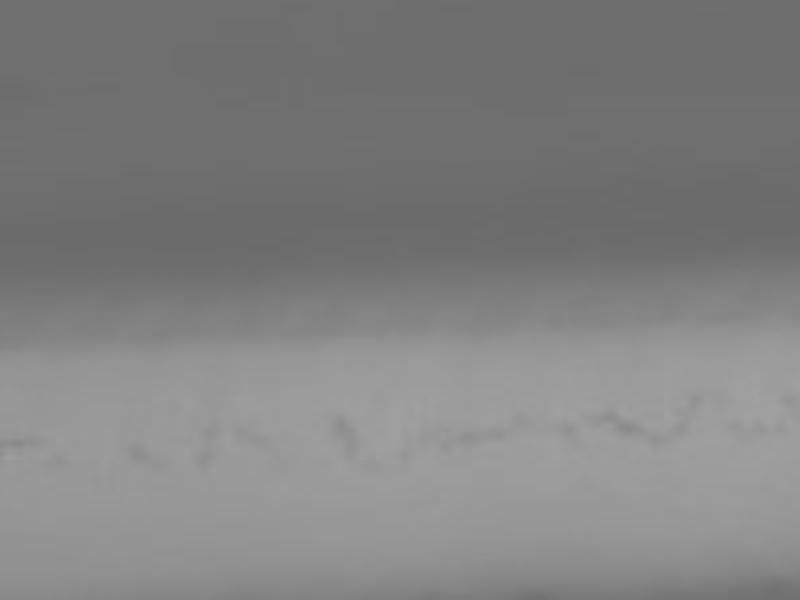defect: (594, 410, 643, 435), (233, 420, 274, 446), (457, 427, 509, 445), (732, 414, 765, 437), (329, 414, 353, 437), (557, 419, 579, 444), (354, 453, 379, 475), (781, 390, 800, 418), (8, 438, 41, 454), (126, 445, 147, 465), (437, 438, 457, 459), (193, 448, 212, 469), (338, 434, 357, 455), (688, 387, 705, 409), (650, 429, 671, 446), (508, 414, 525, 433), (201, 425, 220, 440), (674, 416, 688, 434)
